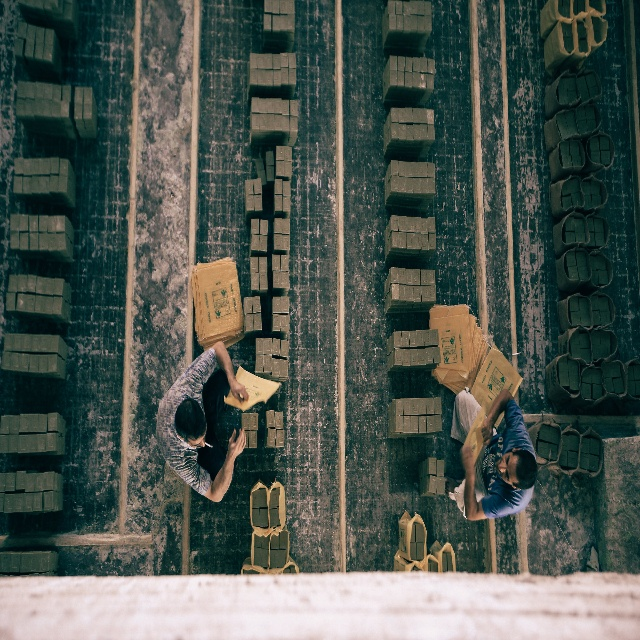Sin_guantes: (227, 428, 246, 458), (229, 378, 250, 403), (480, 418, 494, 445)
